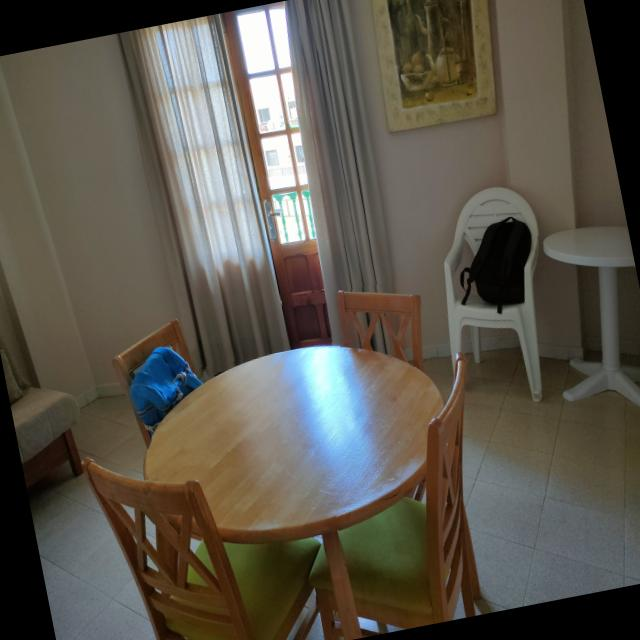chair: (82, 459, 324, 640), (339, 354, 476, 630), (445, 188, 543, 403), (336, 291, 424, 366), (112, 319, 193, 388), (311, 541, 346, 640), (131, 401, 152, 449)
sink: (0, 348, 83, 489)
stove: (145, 347, 445, 640), (544, 227, 640, 408)
